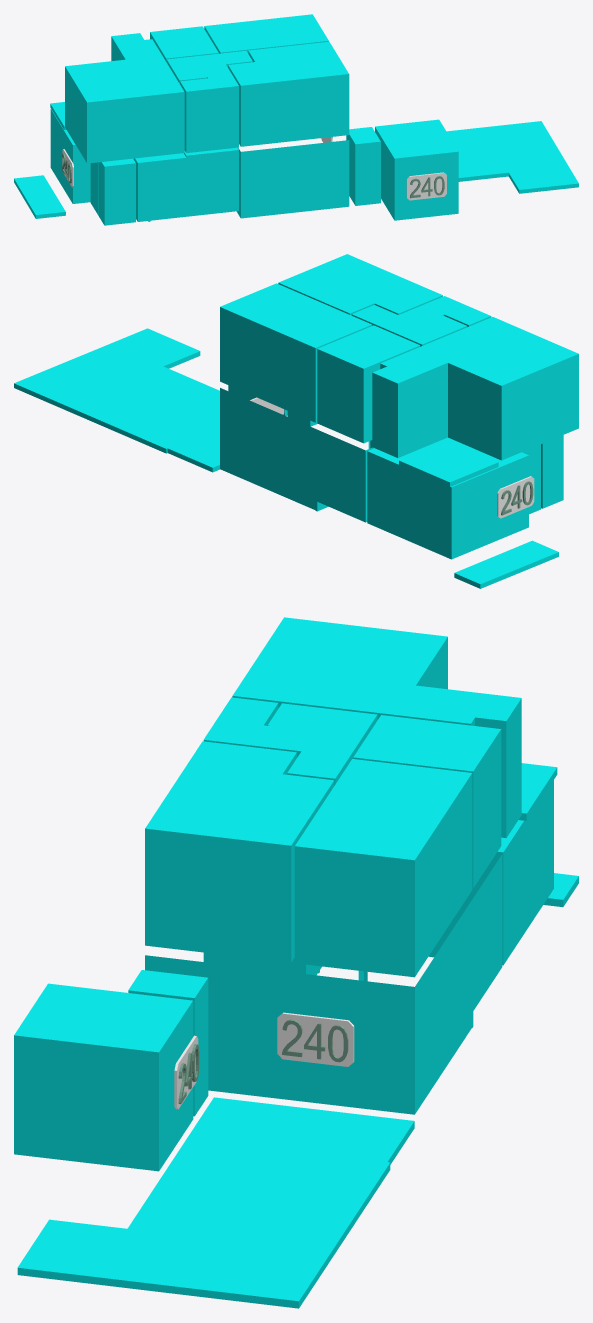
3 views of the same model, one above another, from view 1: azimuth 30°, elevation 25°; view 2: azimuth 150°, elevation 25°; view 3: azimuth 270°, elevation 25° (orthographic). The views are drawn at different scales.
Parts seen in each view (by area): view 1: g_11, g_6, g_1, g_2, g_13, g_5, g_10, g_7, g_3, g_4, g_0, g_9 (+3 smaller); view 2: g_11, g_13, g_7, g_1, g_0, g_9, g_6, g_14, g_8, g_12, g_3, g_10 (+2 smaller); view 3: g_13, g_1, g_7, g_6, g_5, g_11, g_9, g_0, g_8, g_4, g_26, g_10 (+2 smaller).
Boxes of the visible parts, x1,y1,x2,y2 form: g_11: (65,33,184,163); g_6: (228,41,349,146); g_1: (236,140,349,218); g_2: (90,147,238,221); g_13: (446,121,578,193); g_5: (375,119,458,220); g_10: (180,74,238,152); g_7: (204,14,328,53); g_3: (98,158,135,225); g_4: (346,127,380,205); g_0: (50,109,90,203); g_9: (150,26,218,61); g_11: (372,317,578,460); g_13: (14,328,219,472); g_7: (220,283,372,422); g_1: (220,388,374,522); g_0: (367,437,528,559); g_9: (317,325,420,443); g_6: (278,254,442,315); g_14: (399,440,498,486); g_8: (351,305,467,346); g_12: (454,540,558,588); g_3: (541,435,563,508); g_10: (419,296,491,326); g_13: (17,1097,414,1308); g_1: (145,854,502,1114); g_7: (294,759,472,977); g_6: (145,741,334,962); g_5: (14,983,193,1171); g_11: (232,617,521,837); g_9: (353,715,501,888); g_0: (428,780,553,965); g_8: (257,703,377,785); g_4: (128,970,208,1116); g_26: (277,1012,354,1066); g_10: (203,697,278,747).
Size of the model in its own units: 19.45 by 5.35 by 10.43.
